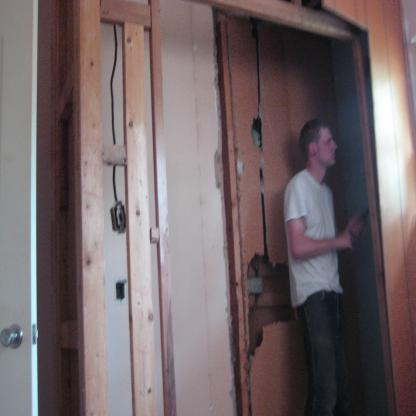door: (0, 0, 37, 415)
knob: (0, 326, 15, 350)
